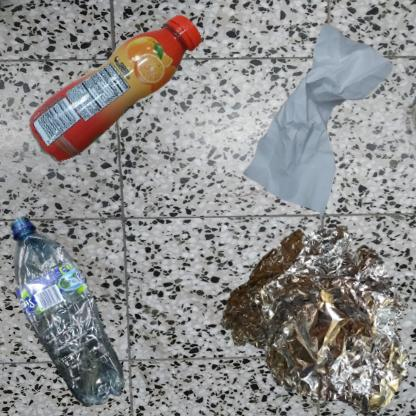aluminio: (213, 213, 416, 416)
botella: (10, 10, 269, 197), (10, 213, 127, 412)
papel: (213, 10, 416, 246)
